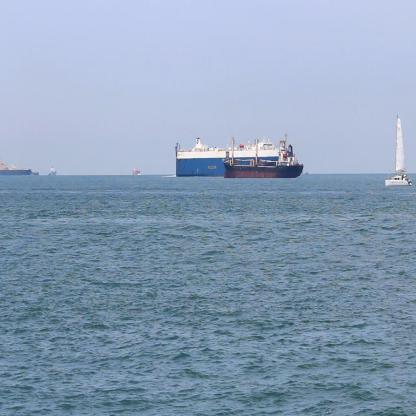Container Ship: (173, 136, 287, 181), (218, 128, 306, 181), (0, 160, 34, 178), (46, 163, 58, 179), (132, 164, 142, 178)
